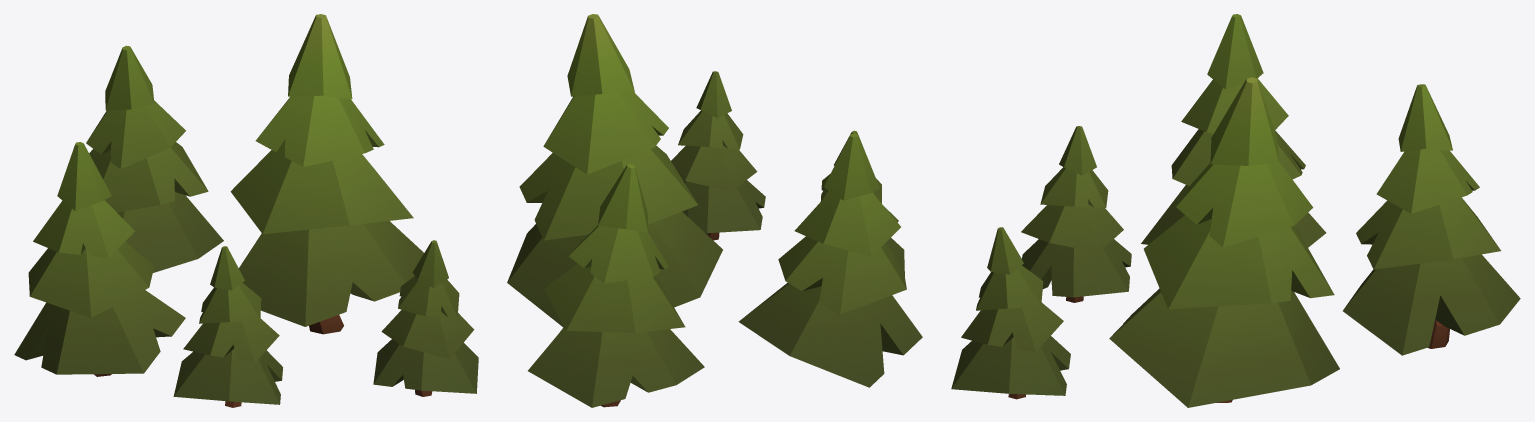
File: pine-tree.glb
3 views of the same model, side by side, from view 1: azimuth 30°, elevation 25°; view 2: azimuth 150°, elevation 25°; view 3: azimuth 270°, elevation 25° (orthographic). The views are drawn at different scales.
Parts seen in each view (by area): view 1: pine_tree; view 2: pine_tree; view 3: pine_tree.
Part boxes in pixels (left/top/right/bottom): pine_tree: left=14, top=14, right=478, bottom=407; pine_tree: left=507, top=14, right=922, bottom=407; pine_tree: left=951, top=14, right=1520, bottom=407.
Size of the model in its own units: 1.34 by 0.973 by 1.55.
1 material, 1 textured.
